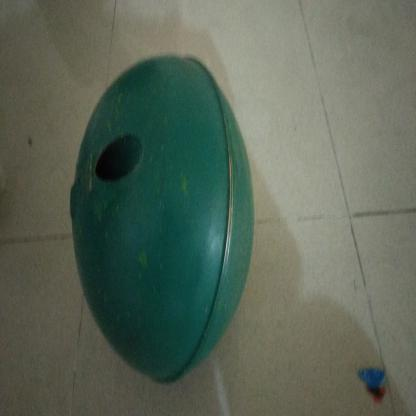green_buoy: (65, 48, 264, 392)
